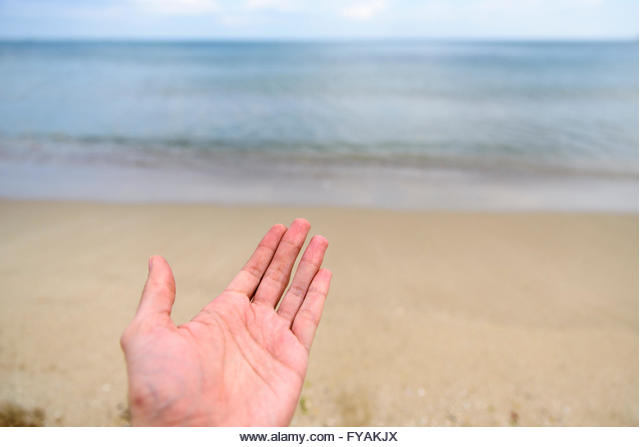hand: (109, 214, 363, 426)
